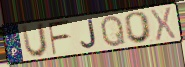F: (47, 18, 72, 57)
J: (79, 18, 98, 50)
O: (123, 11, 153, 45)
Q: (100, 14, 128, 49)
U: (20, 21, 49, 59)
X: (149, 5, 177, 43)
